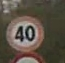limite 40: (4, 15, 47, 52)
